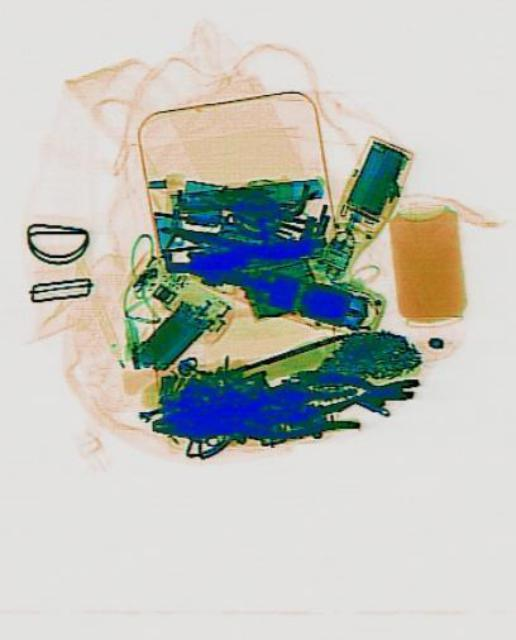Pliers: (293, 364, 420, 414)
